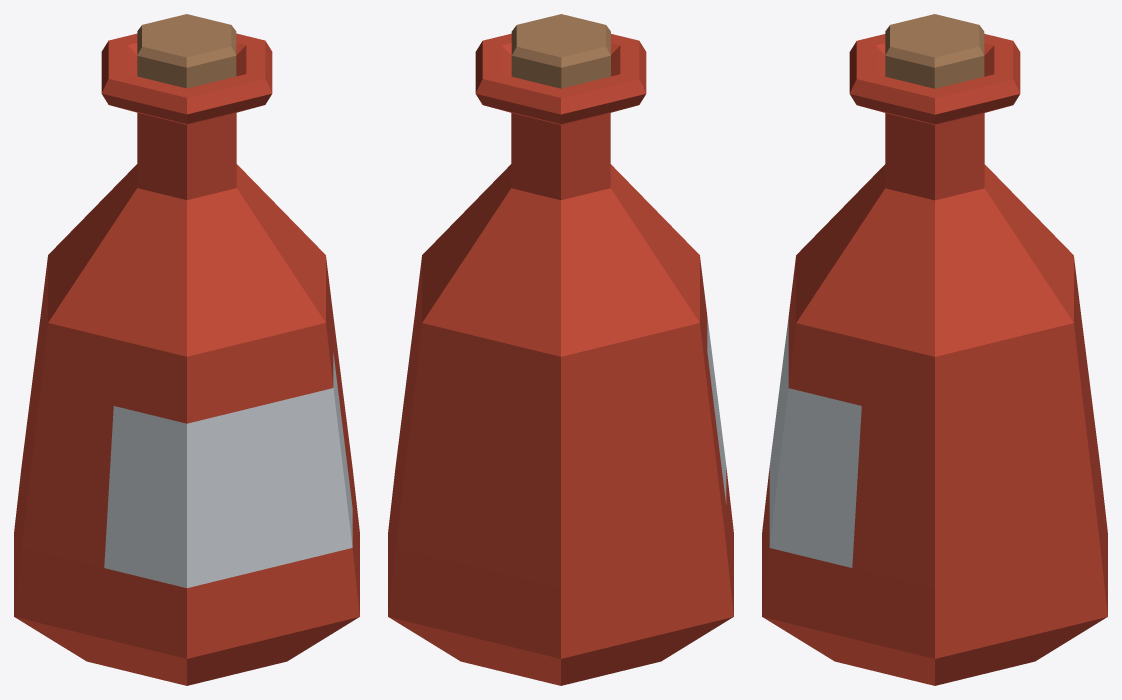
File: Red_Potion_7(Label).fbx
3 renders of one model, left to right at view 1: azimuth 30°, elevation 25°; view 2: azimuth 150°, elevation 25°; view 3: azimuth 270°, elevation 25°, orthographic.
Visible parts, largest first — view 1: Red_Potion_7(Label); view 2: Red_Potion_7(Label); view 3: Red_Potion_7(Label).
Part boxes in pixels (left/top/right/bottom): Red_Potion_7(Label): left=14, top=14, right=359, bottom=685; Red_Potion_7(Label): left=388, top=14, right=733, bottom=685; Red_Potion_7(Label): left=762, top=14, right=1107, bottom=685.
Bounding box in the file's own units: 20.48 × 34.03 × 17.74.
